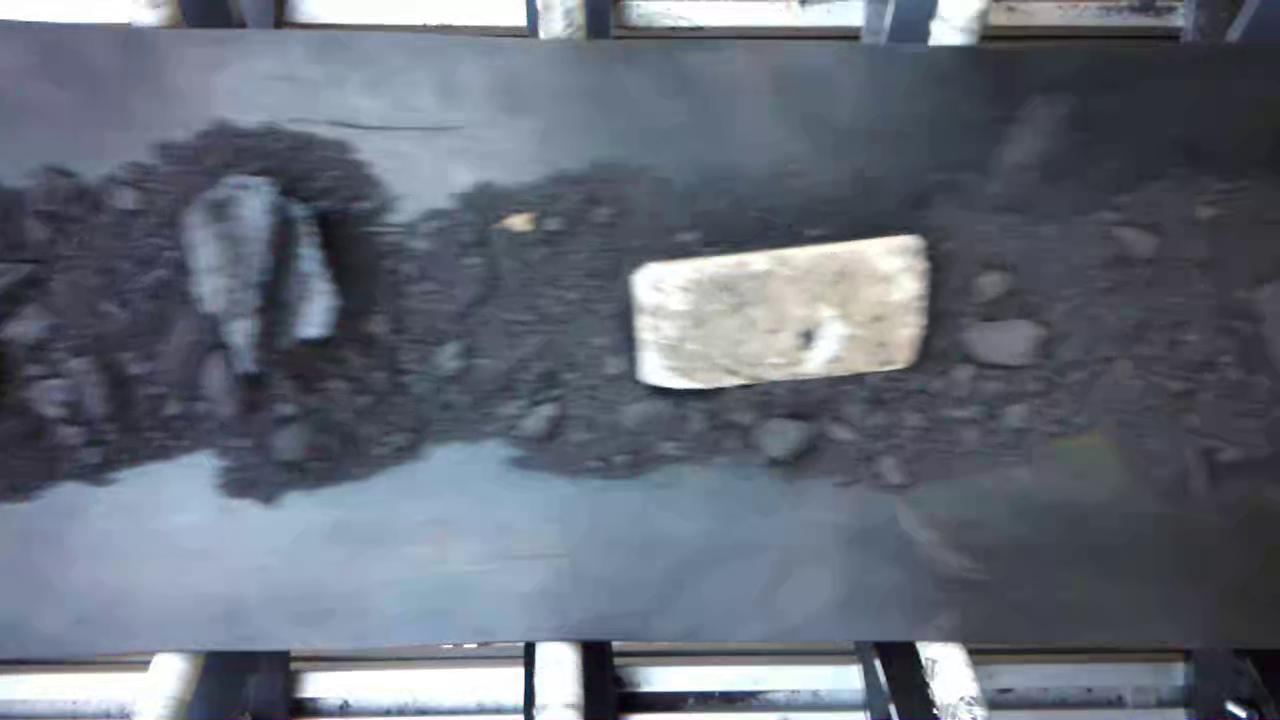conveyor: (0, 47, 1280, 642)
